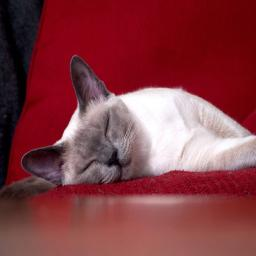catnose: (106, 148, 120, 166)
